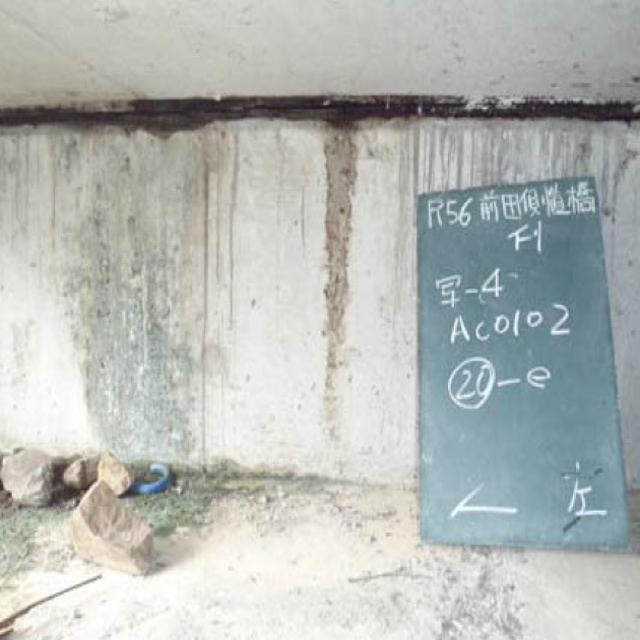leakage: (15, 85, 640, 154)
